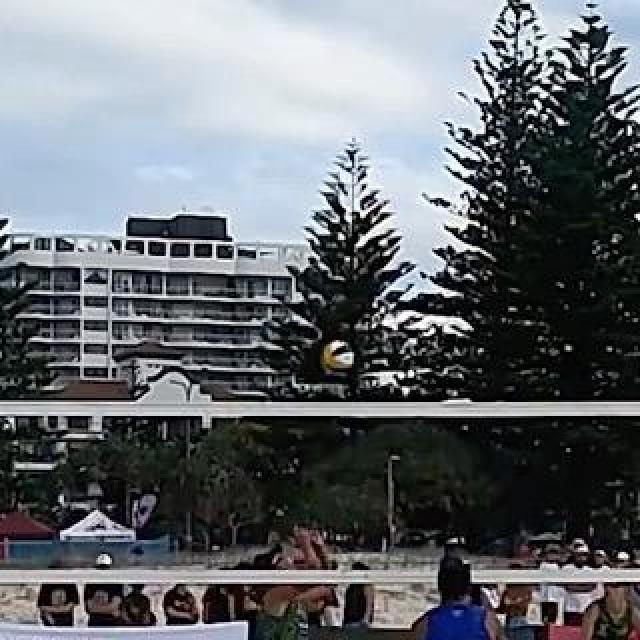volleyball: (323, 342, 355, 372)
